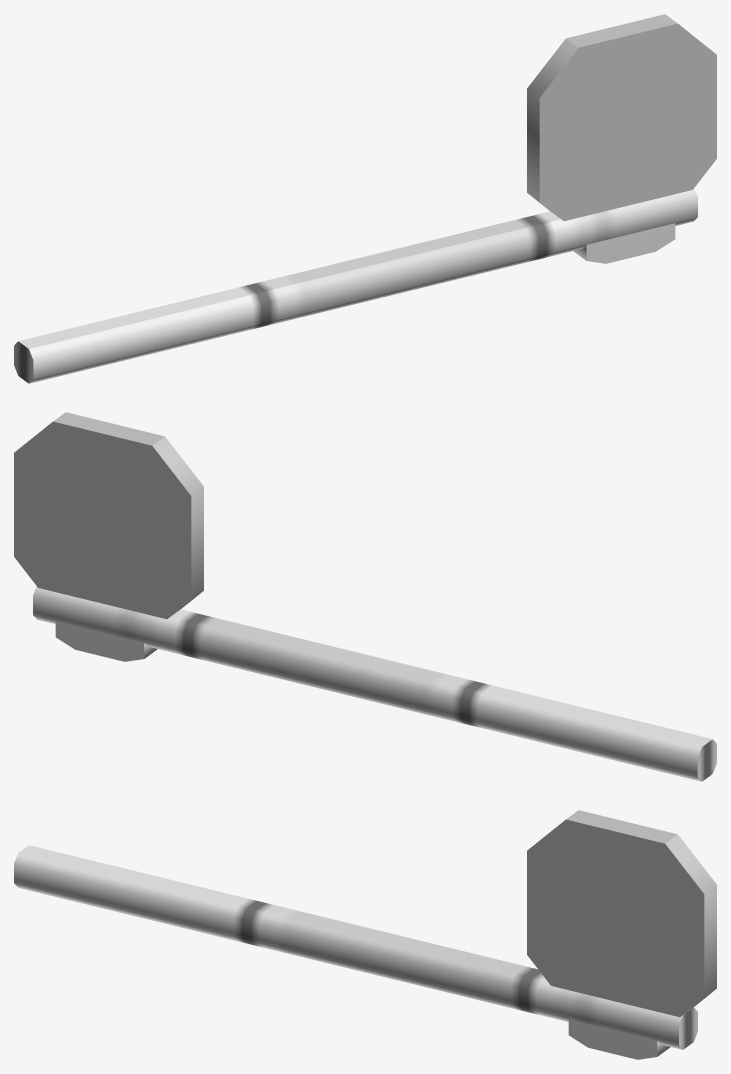
File: axe.obj
The picture shows the model from 3 angles, top to bottom: view 1: azimuth 30°, elevation 25°; view 2: azimuth 150°, elevation 25°; view 3: azimuth 330°, elevation 25°; orthographic projection.
Parts seen in each view (by area): view 1: axe_head, handle, head_socket; view 2: axe_head, handle, head_socket; view 3: axe_head, handle, head_socket.
Part boxes in pixels (x1,y1,x2,y2): axe_head: (527,14,716,221); handle: (14,188,697,383); head_socket: (573,223,675,263); axe_head: (14,412,203,619); handle: (33,586,716,781); head_socket: (55,621,157,661); axe_head: (527,810,716,1017); handle: (14,845,697,1049); head_socket: (568,1019,670,1059).
Size of the model in its own units: 0.62 by 0.19 by 0.03.
